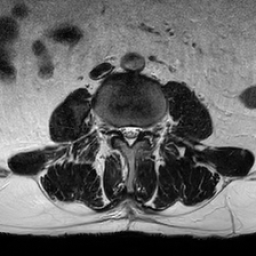CCS_normal: (125, 118, 133, 150)
LFS_stenosis: (141, 121, 148, 139)
LLS_normal: (133, 121, 140, 144)
RFS_stenosis: (112, 121, 120, 142)
RLS_stenosis: (120, 122, 126, 142)
